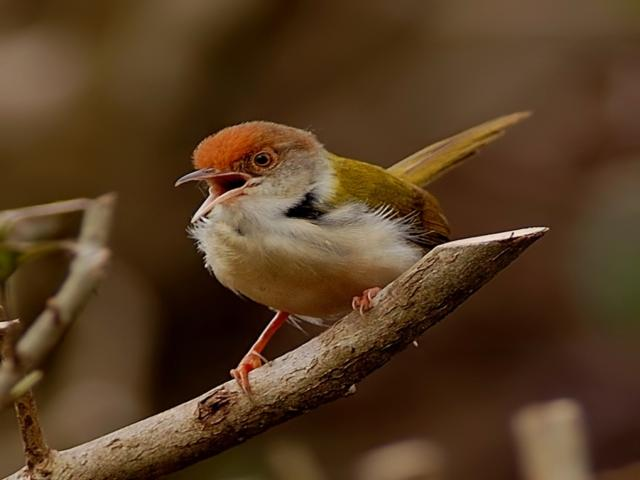Bird: (169, 114, 533, 395)
